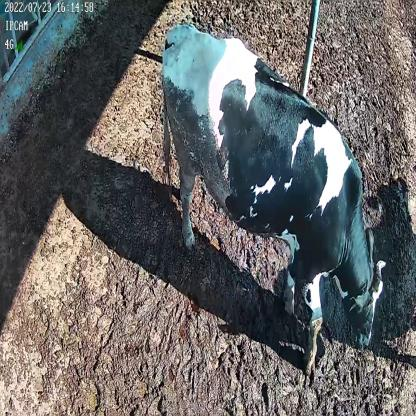cow: (160, 20, 388, 380)
